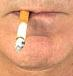smoke: (15, 8, 30, 51)
